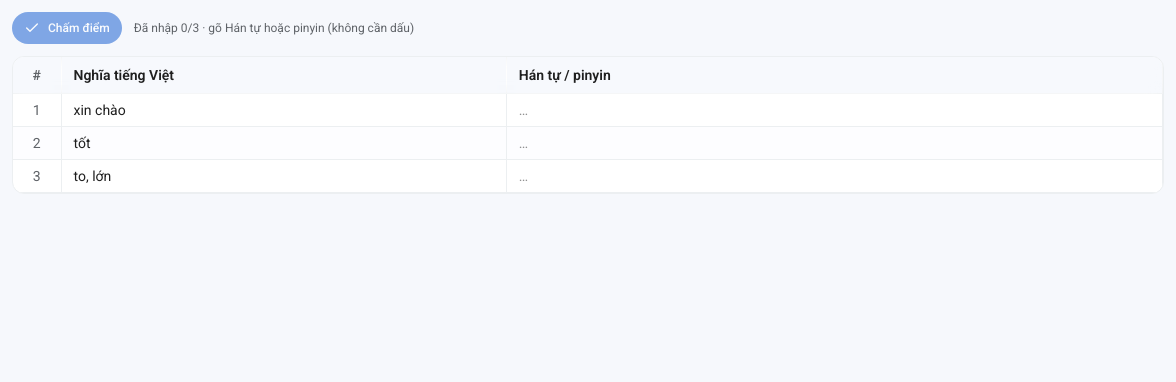
Test: ChineseCardsTest › làm lại thì xoá đáp án và mở lại ô nhập
Type "你好" into the field with placeholder "…" in the row of "xin chào" at [834, 110], box 507,94 -> 1162,126
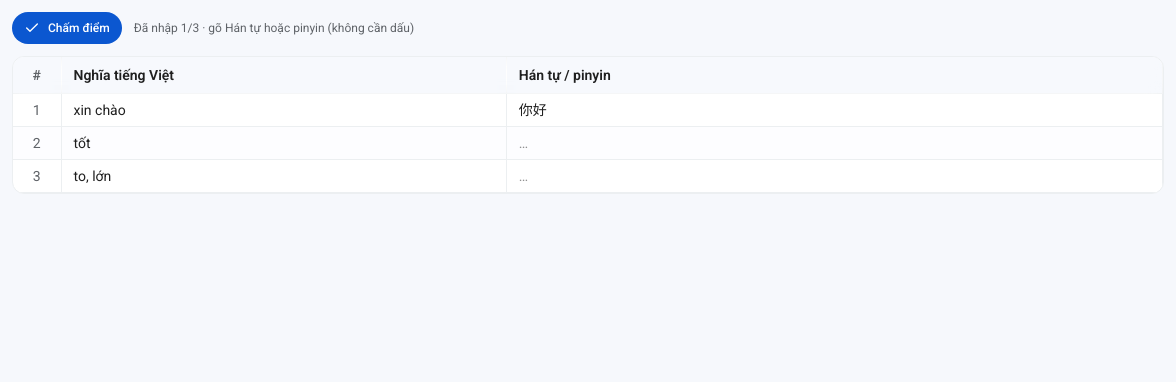
Click the button "Chấm điểm" at [67, 28], box 12,12 -> 122,44
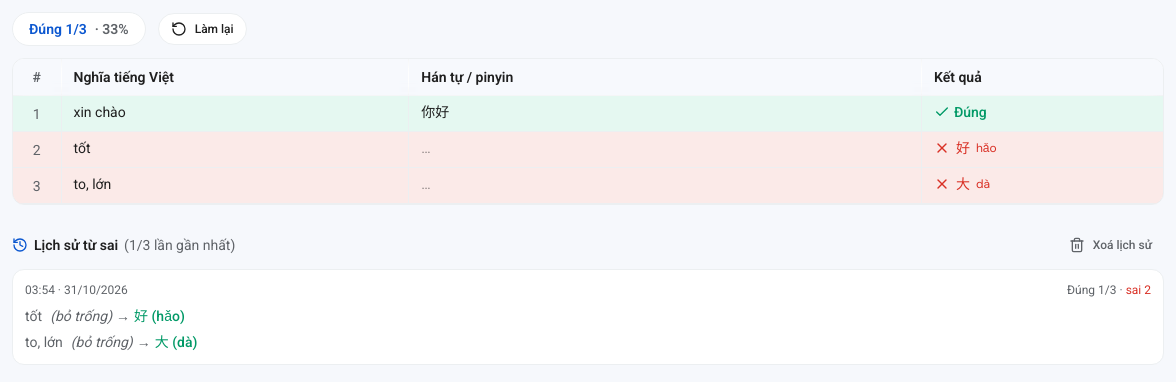
Expected: the 1st field is disabled, 409,96 -> 921,128
Click the button "Làm lại" at [202, 29], box 158,13 -> 247,45
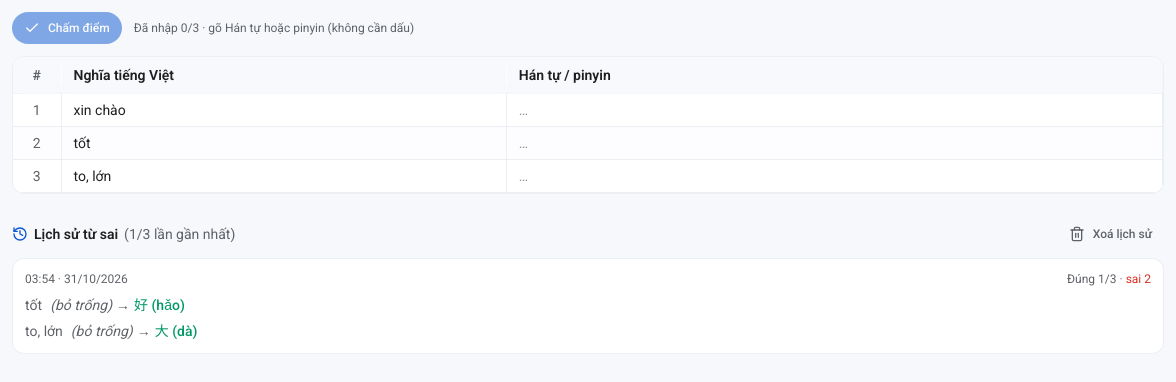
Expected: the field with placeholder "…" in the row of "xin chào" is empty, 507,94 -> 1162,126
Expected: the field with placeholder "…" in the row of "xin chào" is enabled, 507,94 -> 1162,126
